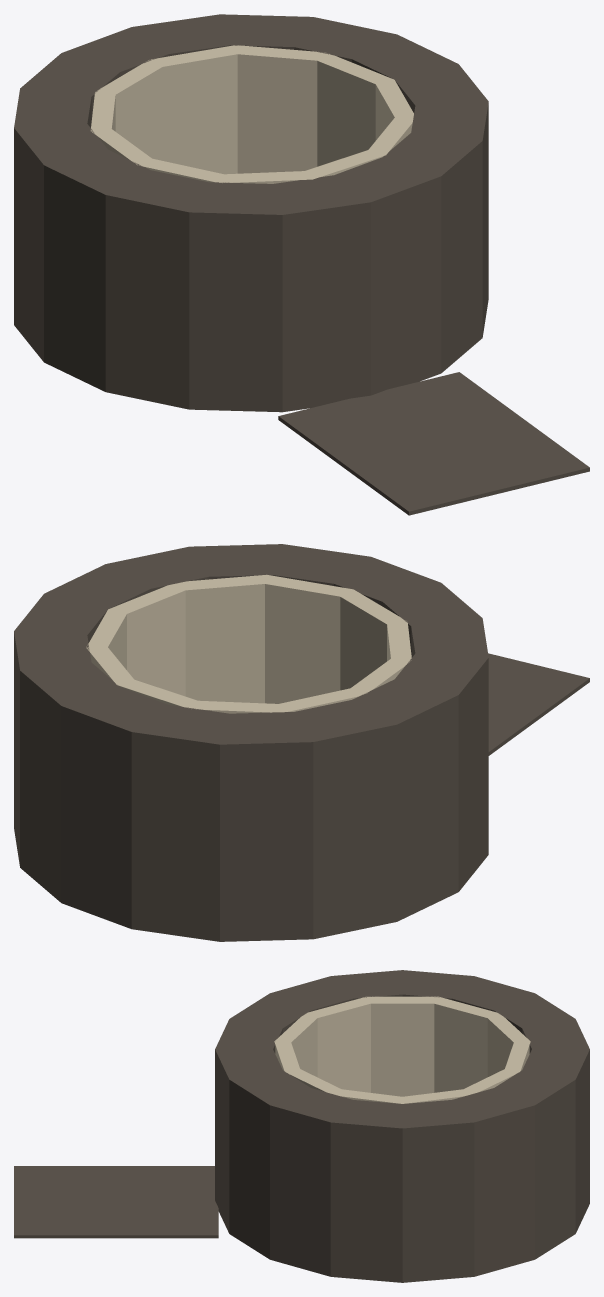
Rendered from gaff-tape-roll.glb.
3 views of the same model, one above another, from view 1: azimuth 30°, elevation 25°; view 2: azimuth 150°, elevation 25°; view 3: azimuth 270°, elevation 25° (orthographic). The views are drawn at different scales.
Visible parts, largest first — view 1: fabric, paper; view 2: fabric, paper; view 3: fabric, paper.
Part boxes in pixels (x1,y1,x2,y2): fabric: (14,14,589,515); paper: (90,45,413,183); fabric: (14,544,589,941); paper: (86,574,411,713); fabric: (14,970,589,1282); paper: (274,996,530,1103).
Bounding box in the file's own units: 0.11 × 0.05 × 0.169.
